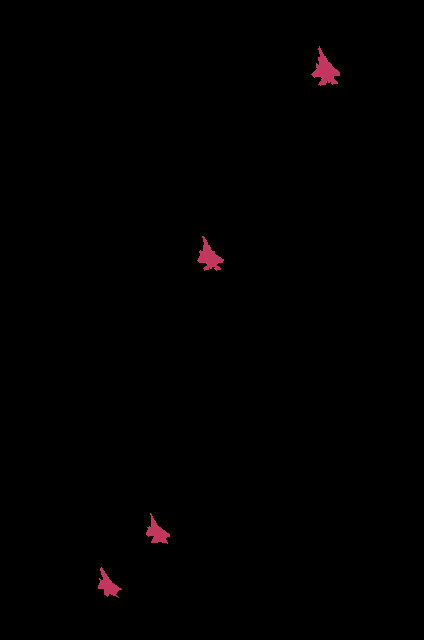Airplane: (311, 46, 340, 85), (197, 236, 224, 271), (146, 513, 169, 544), (98, 567, 121, 597)
